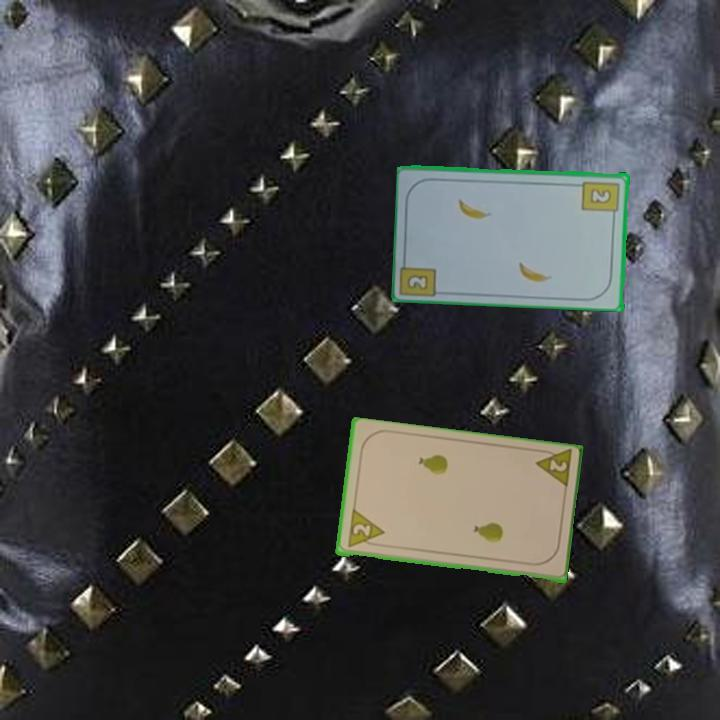2b: (579, 177, 622, 221), (404, 271, 431, 293)
2p: (531, 446, 575, 493), (344, 508, 386, 551)
